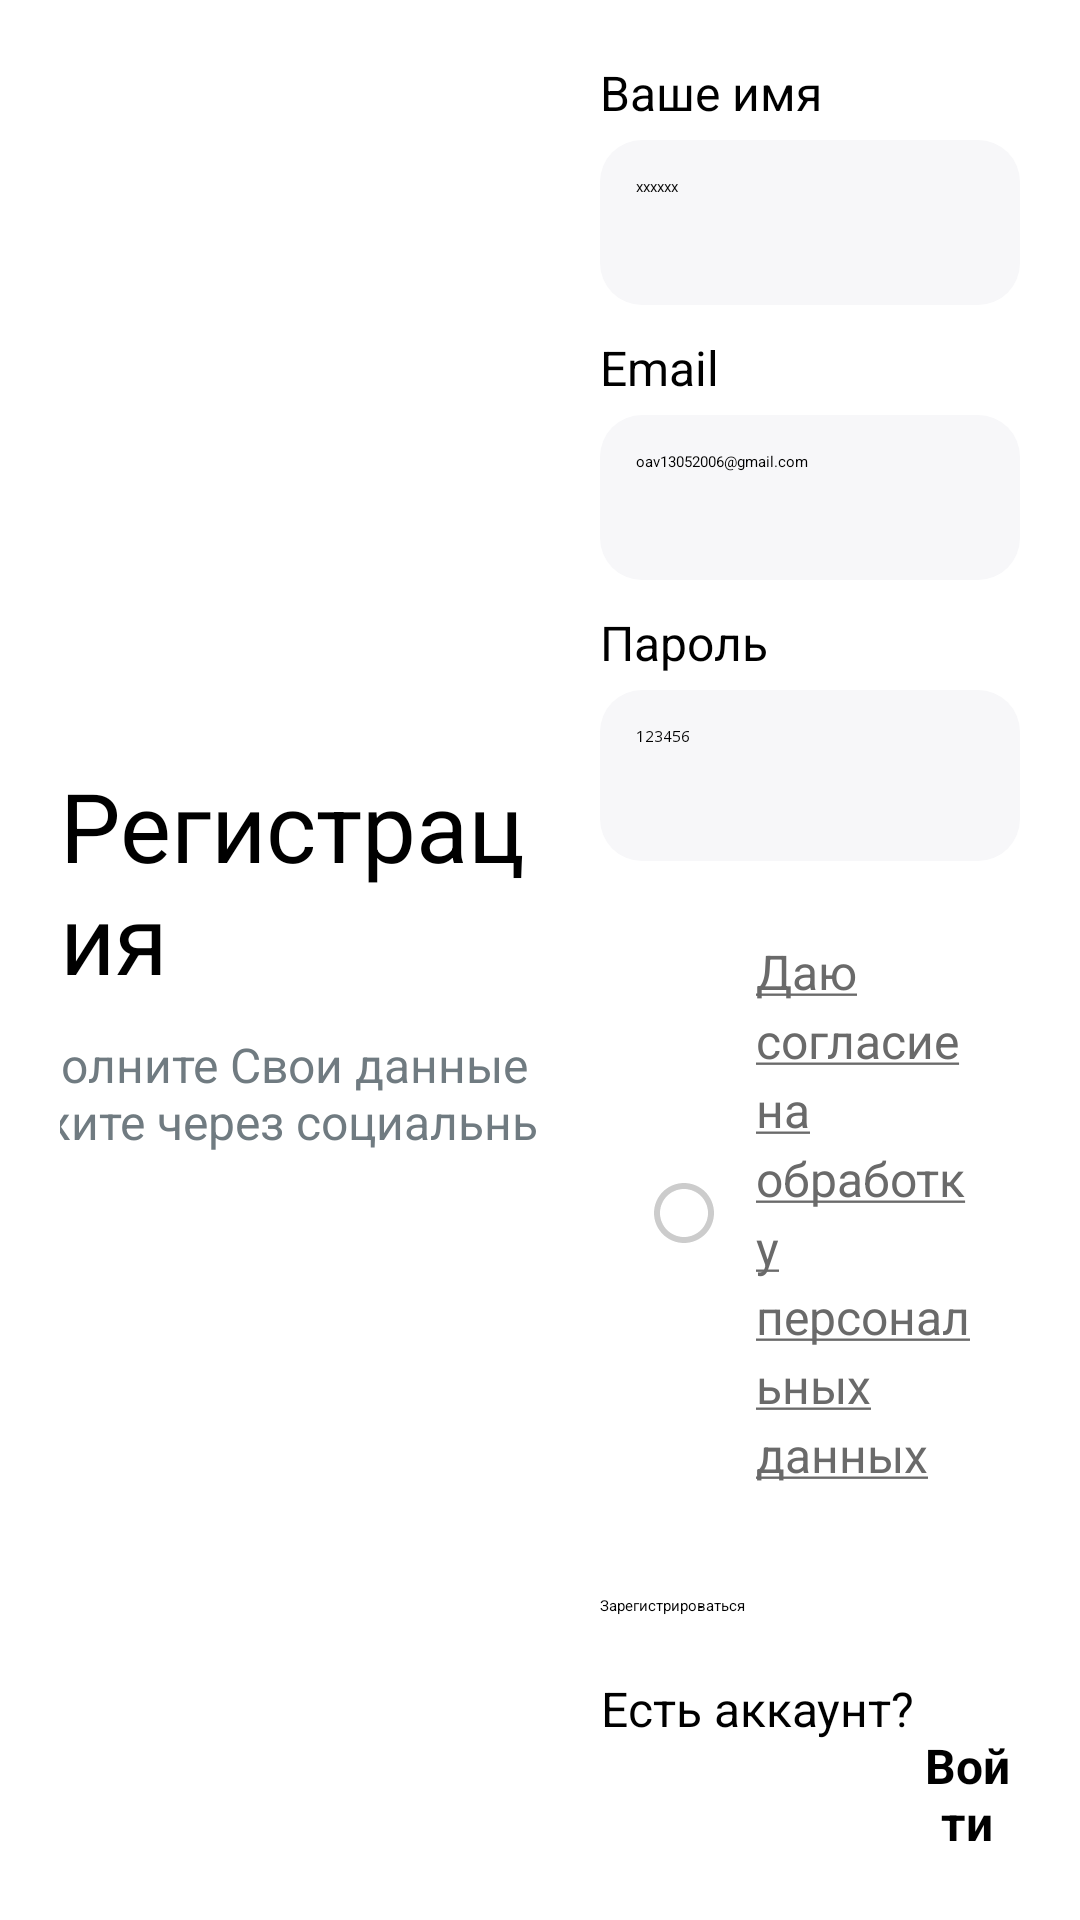

Named icons in this screenshot (1080*1920) and their centers, [x,y]:
checkbox: [684,1213]
